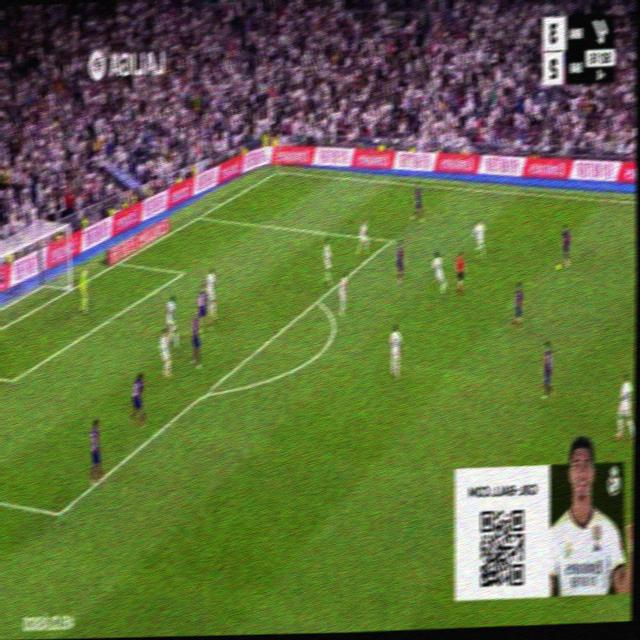bigarea_bottom_inner: (52, 498, 65, 527)
bigarea_top_inner: (388, 233, 394, 246)
bigarea_top_outter: (194, 207, 203, 223)
bottom_arc_area_intersection: (199, 382, 211, 402)
corner: (273, 164, 282, 176)
smallarea_bottom_inner: (7, 371, 17, 389)
smallarea_top_inner: (177, 263, 188, 281)
top_arc_area_intersection: (313, 290, 322, 309)
